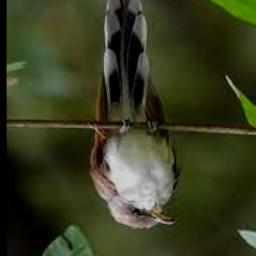Cuckoo: (90, 0, 182, 229)
